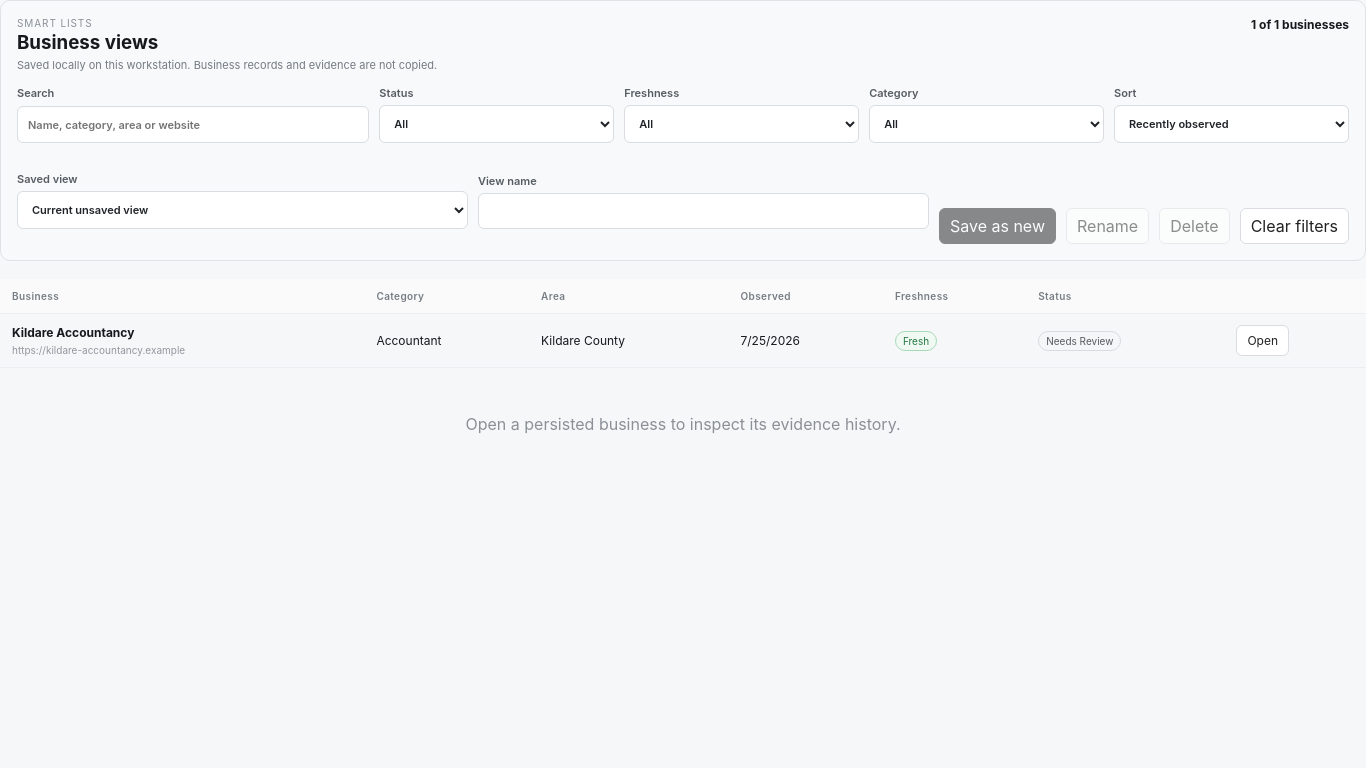
Test: BusinessWorkspace › opens a persisted business and shows location and observation provenance
This screenshot has width=1366, height=768.
Click the button "Open" at (1263, 340), box [1236,325,1289,356]
(page scrolled)
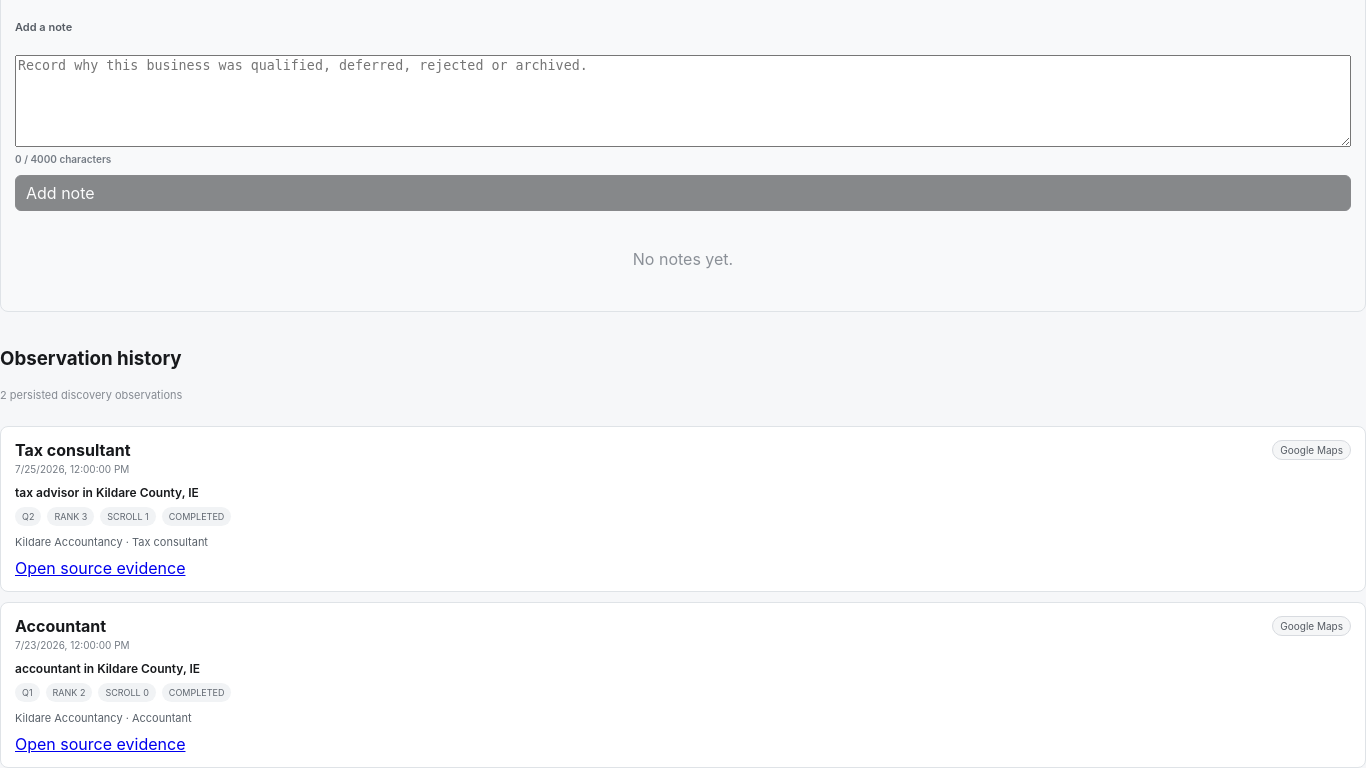
Now the text "tax advisor in Kildare County, IE" is shown, box [15,485,199,500]
Now the text "rank 3" is shown, box [47,507,94,526]
Now the text "accountant in Kildare County, IE" is shown, box [15,661,200,676]
